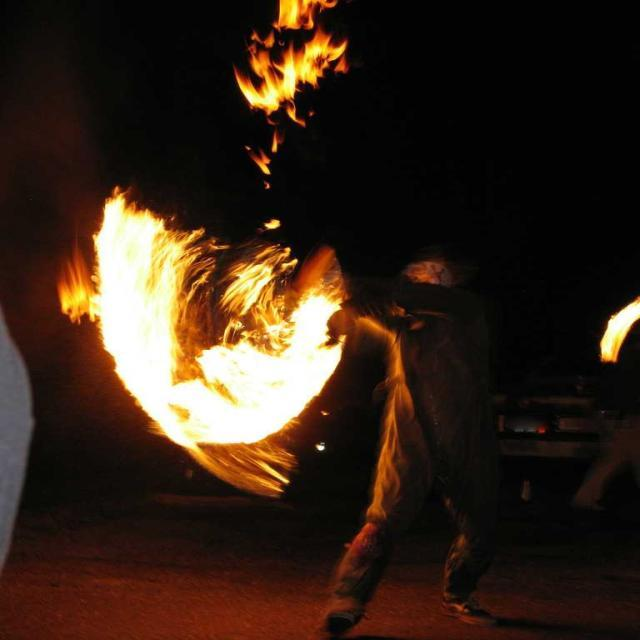Fire: (100, 188, 191, 360), (133, 361, 254, 448), (222, 242, 312, 330), (254, 36, 317, 112), (266, 346, 326, 406), (53, 256, 96, 316), (598, 288, 632, 363), (248, 134, 286, 180), (316, 264, 344, 322), (276, 1, 318, 28)
